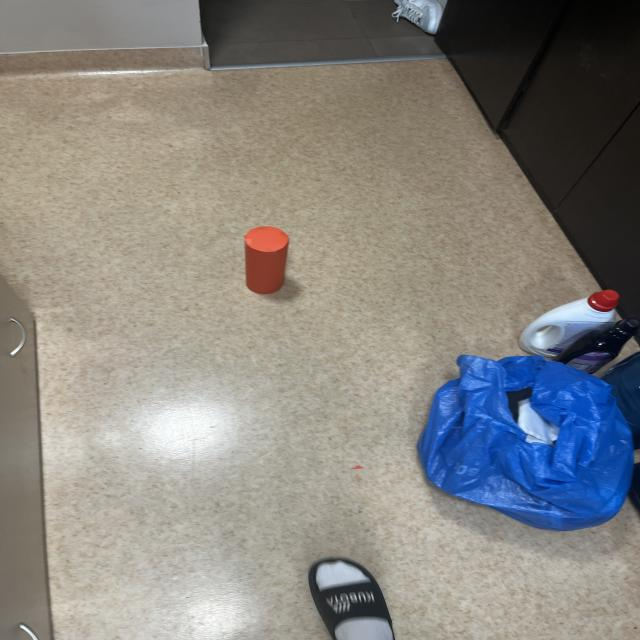przeszkoda: (244, 227, 288, 294)
